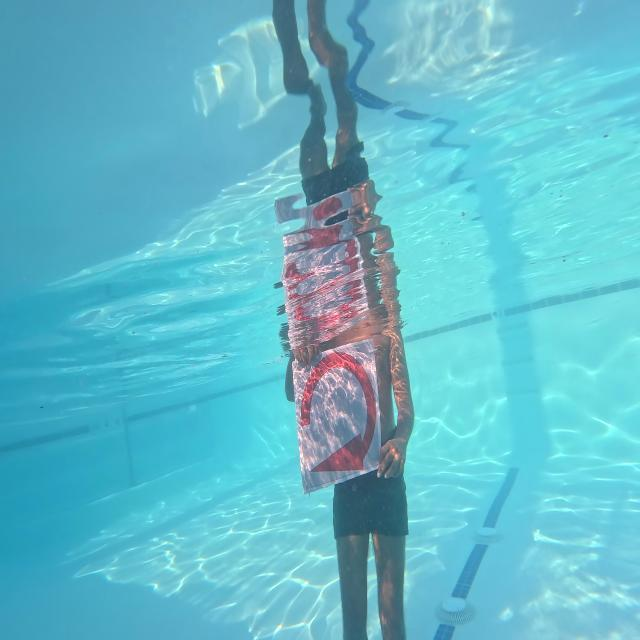red_side: (290, 335, 388, 483)
